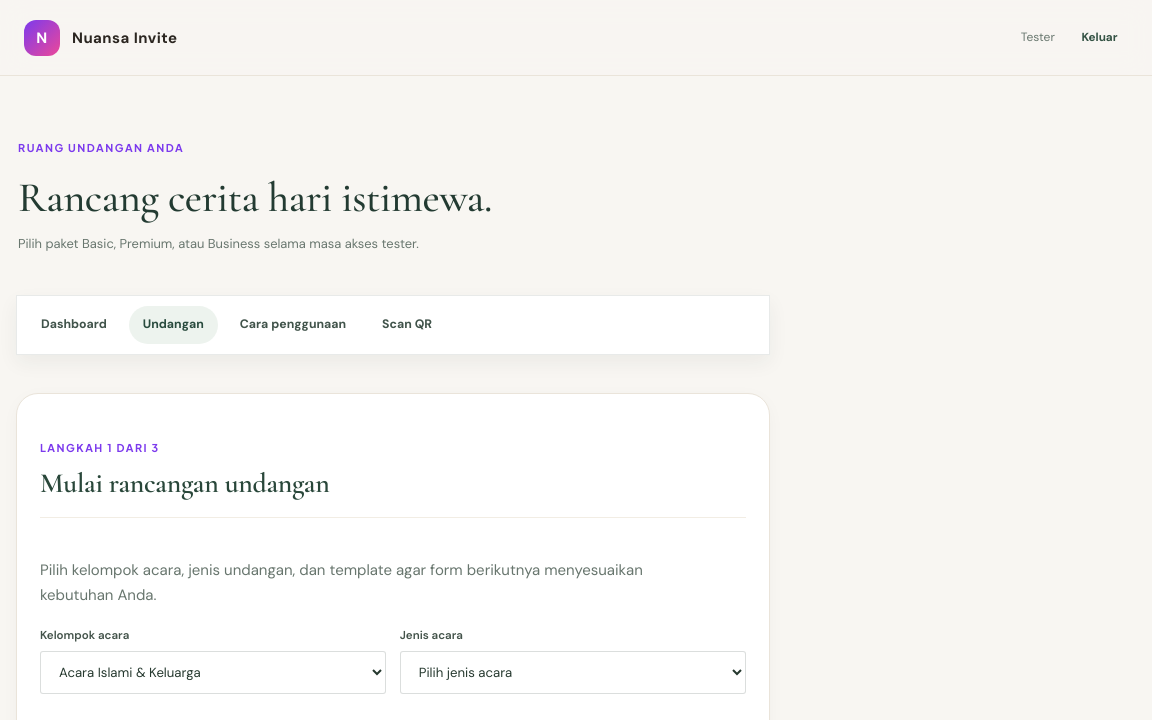
it: test account does not select a package while filling invitation details
Earlier steps of the test are not shown.
Later steps or results of the test are not shown.
Select "Khitanan" in the dropdown labelled "Jenis acara" at (573, 673), box [400,651,746,694]
Select "Pernikahan" in the dropdown labelled "Kelompok acara" at (213, 673), box [40,651,386,694]
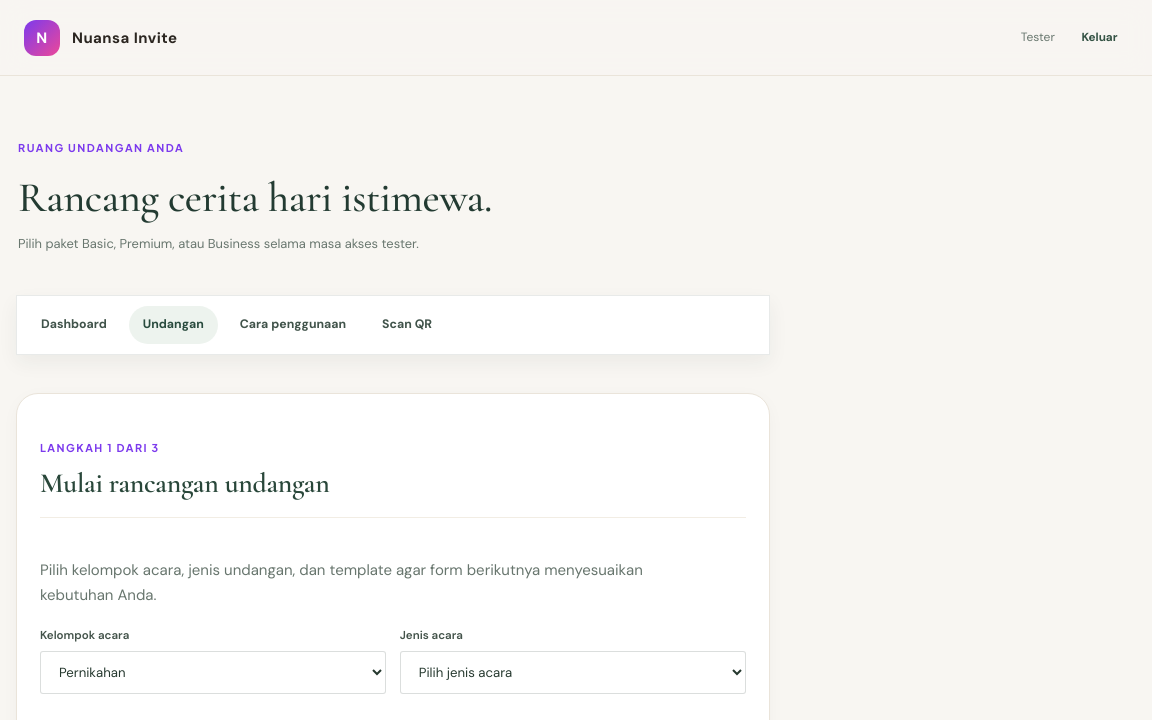
Select "Akad & Resepsi" in the dropdown labelled "Jenis acara" at (573, 673), box [400,651,746,694]
(page scrolled)
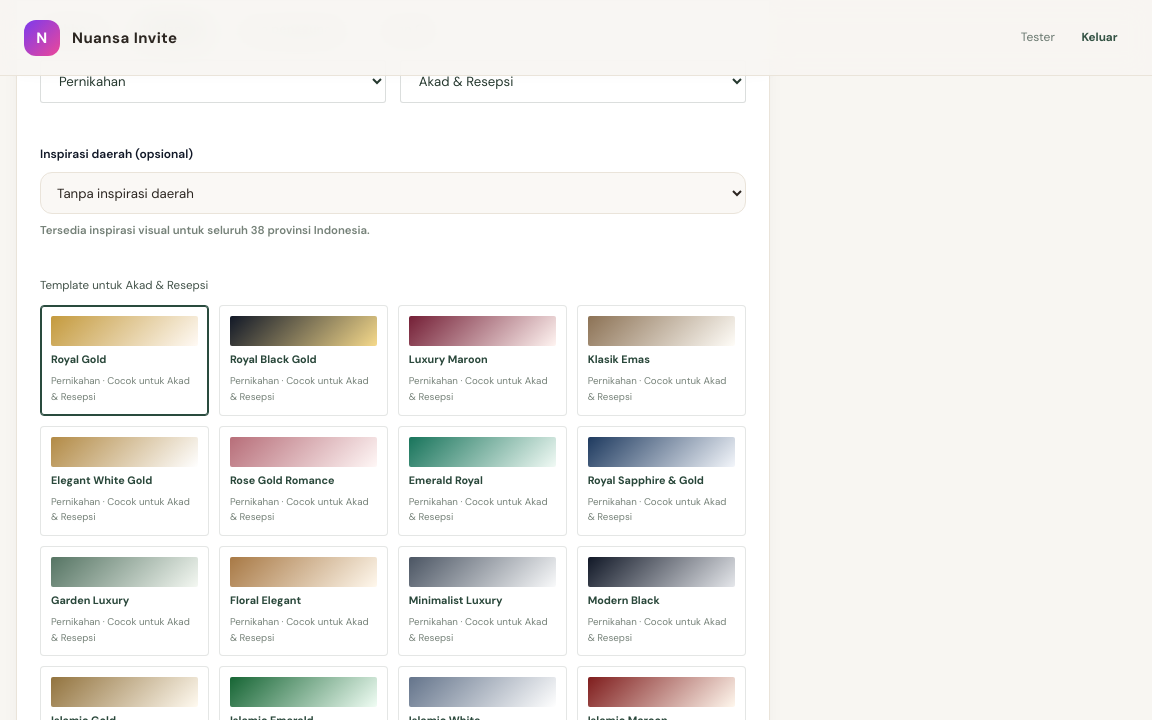
Click the button with class "setup-template-card" that starts with "Royal Gold" at (124, 360), box [40,305,209,416]
(page scrolled)
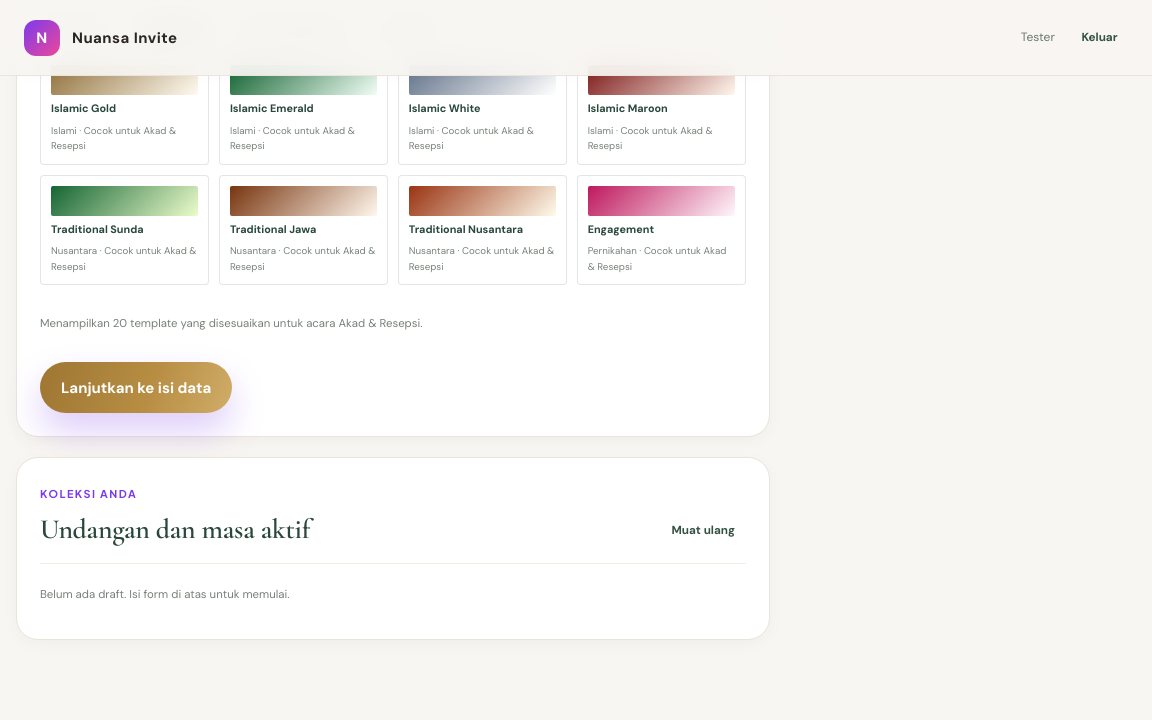
Click the button "Lanjutkan ke isi data" at (136, 388), box [40,362,232,413]
(page scrolled)
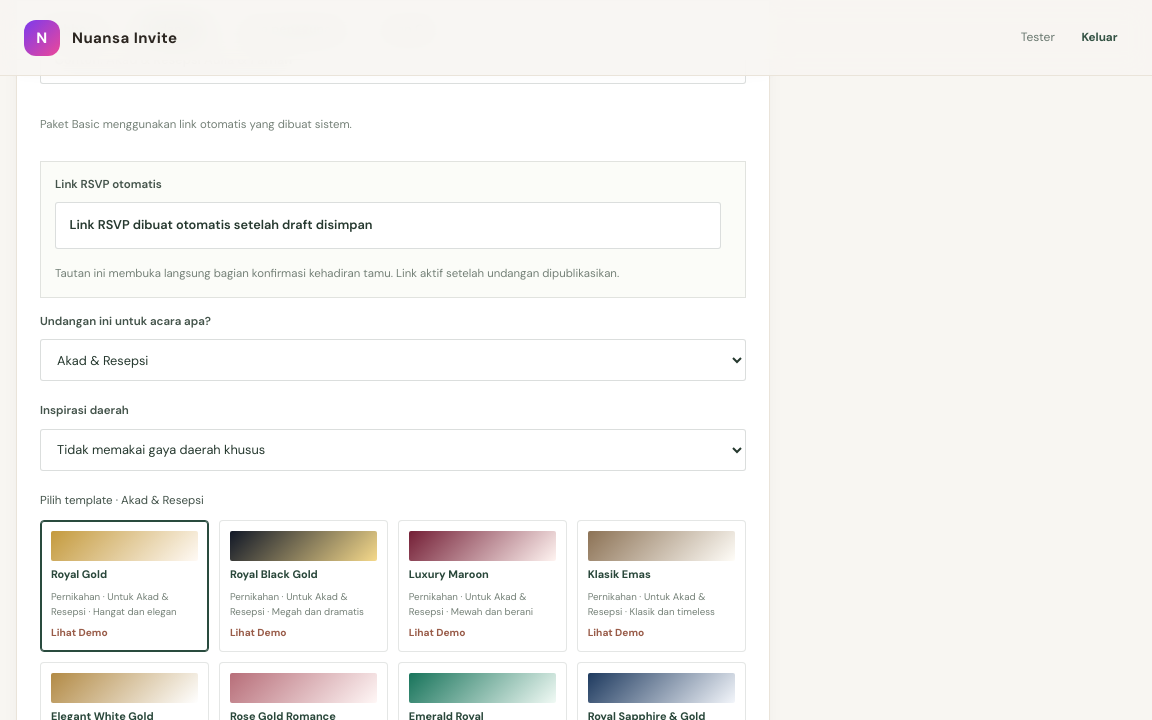
Select "Akad & Resepsi" in the dropdown labelled "Undangan ini untuk acara apa?" at (393, 360), box [40,339,746,381]
Select "Akad Nikah" in the dropdown labelled "Undangan ini untuk acara apa?" at (393, 360), box [40,339,746,381]
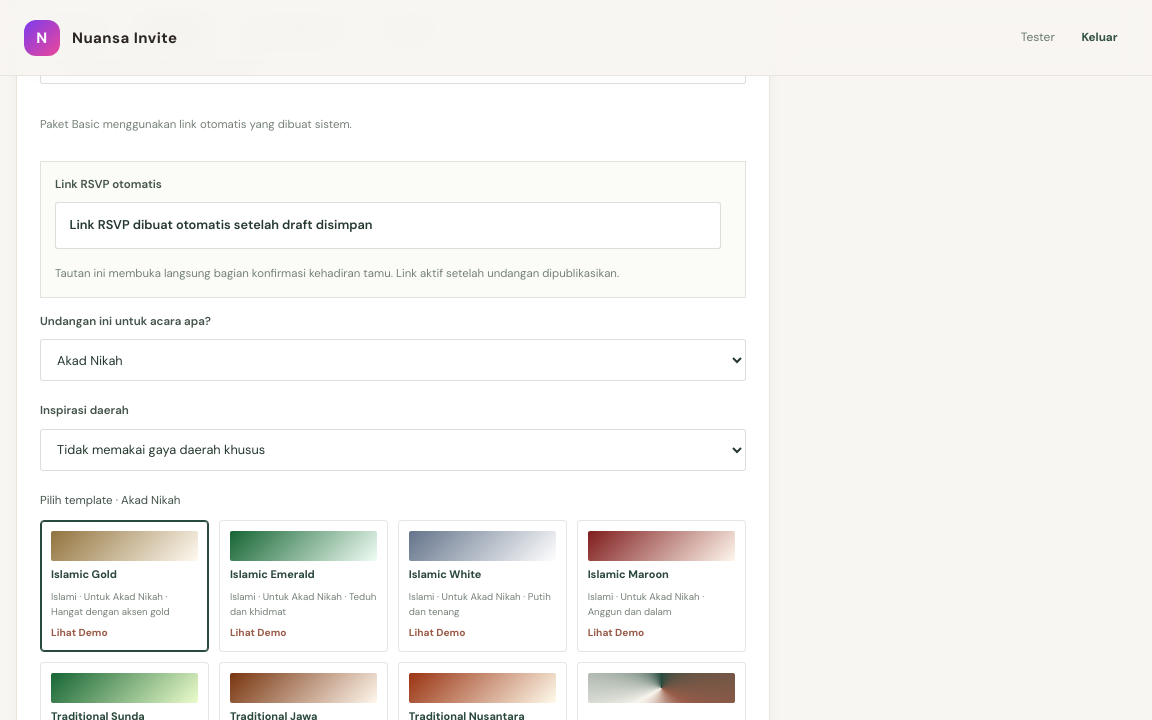
Select "Khitanan" in the dropdown labelled "Undangan ini untuk acara apa?" at (393, 360), box [40,339,746,381]
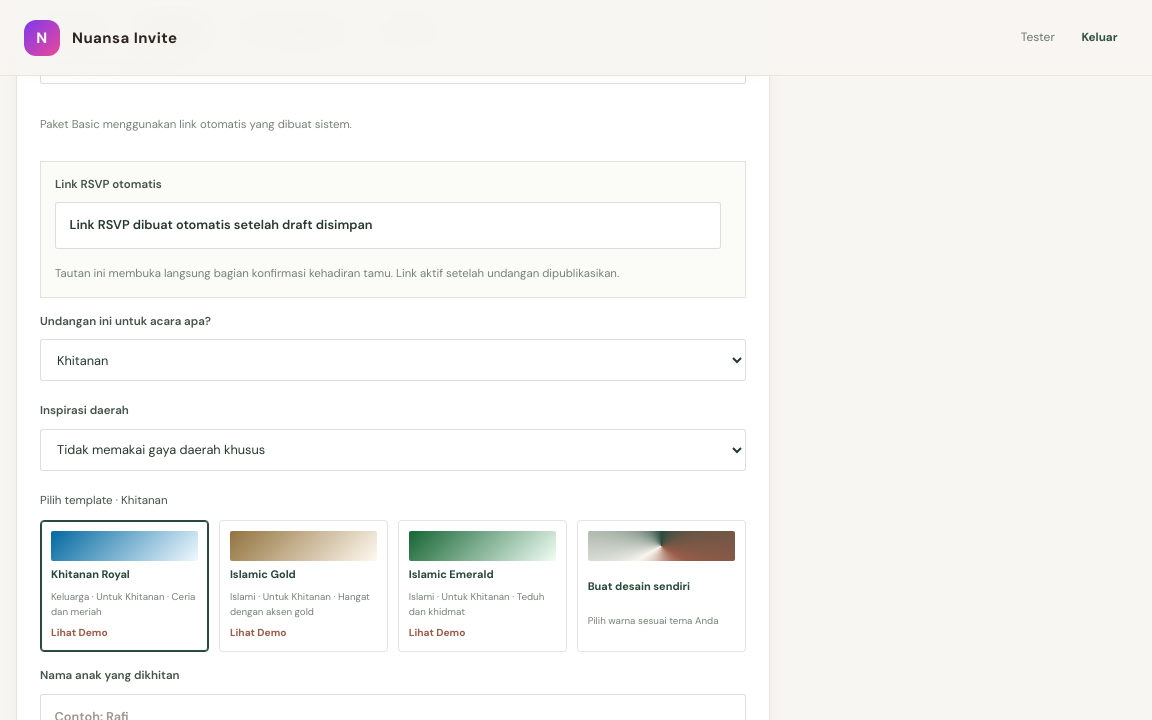
Result: the text "Khitanan Royal" is shown at [51,567,130,581]
